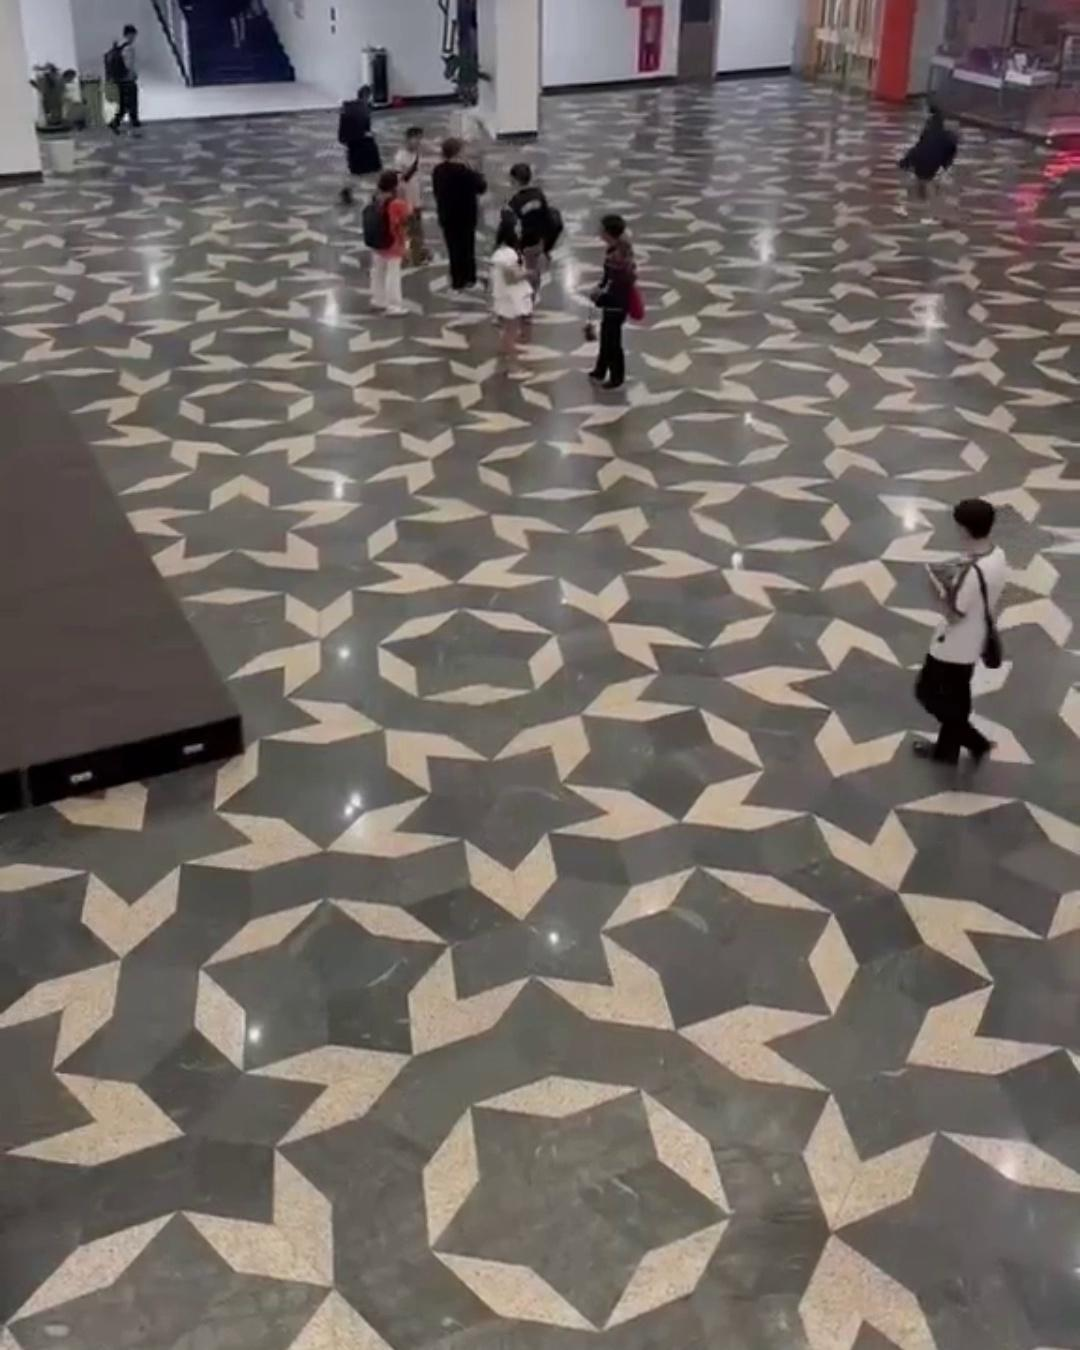your_class: (909, 497, 1003, 768), (583, 215, 645, 392), (498, 163, 563, 302), (431, 137, 487, 291), (361, 170, 411, 318), (896, 100, 959, 206), (488, 219, 536, 358), (336, 84, 384, 204), (393, 127, 429, 268), (104, 24, 142, 139), (225, 1, 251, 50)
